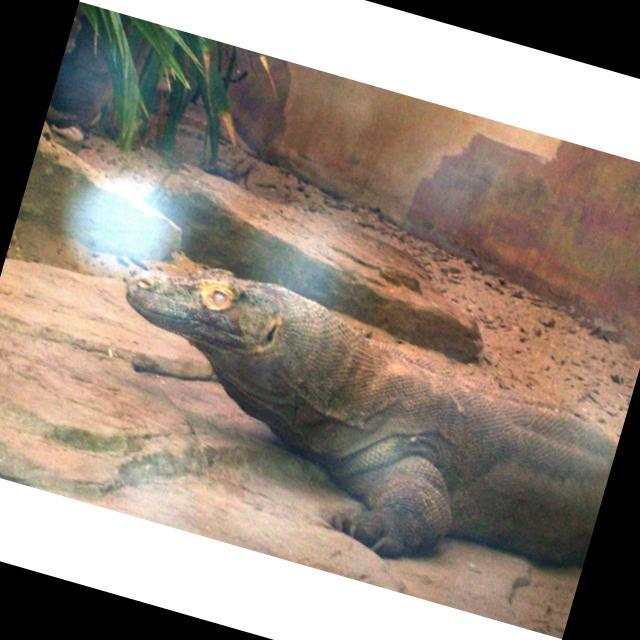KomodoDragon: (74, 242, 634, 611)
